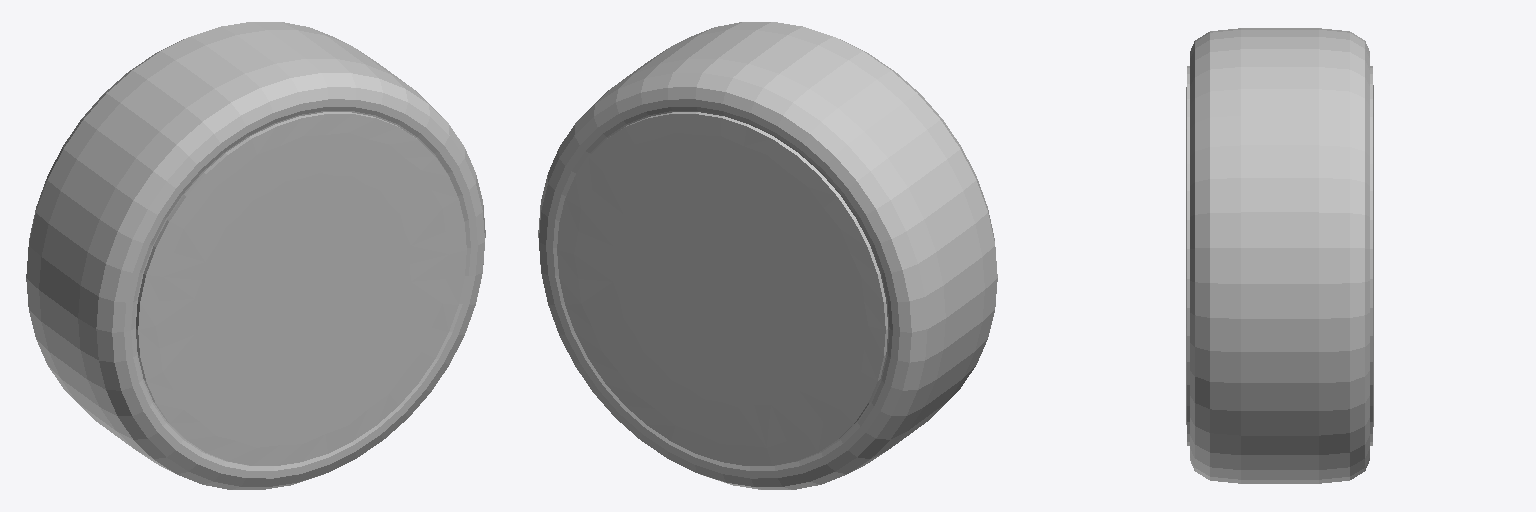
The model's file is botRightWheel.obj.
The picture shows the model from 3 angles: view 1: azimuth 30°, elevation 25°; view 2: azimuth 150°, elevation 25°; view 3: azimuth 270°, elevation 25°; orthographic projection.
Parts seen in each view (by area): view 1: wheel:pCylinder5; view 2: wheel:pCylinder5; view 3: wheel:pCylinder5.
Part boxes in pixels (x1,y1,x2,y2): wheel:pCylinder5: (26,22,485,489); wheel:pCylinder5: (538,22,997,489); wheel:pCylinder5: (1186,28,1373,483).
Size of the model in its own units: 6.93 by 6.93 by 2.85.